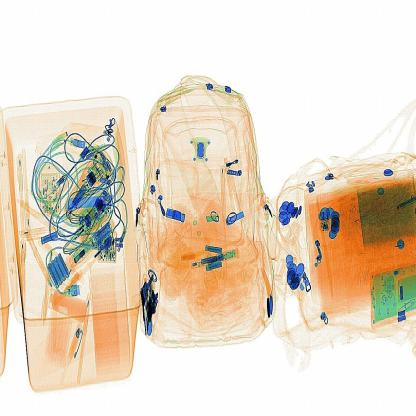pliers: (65, 186, 121, 216)
